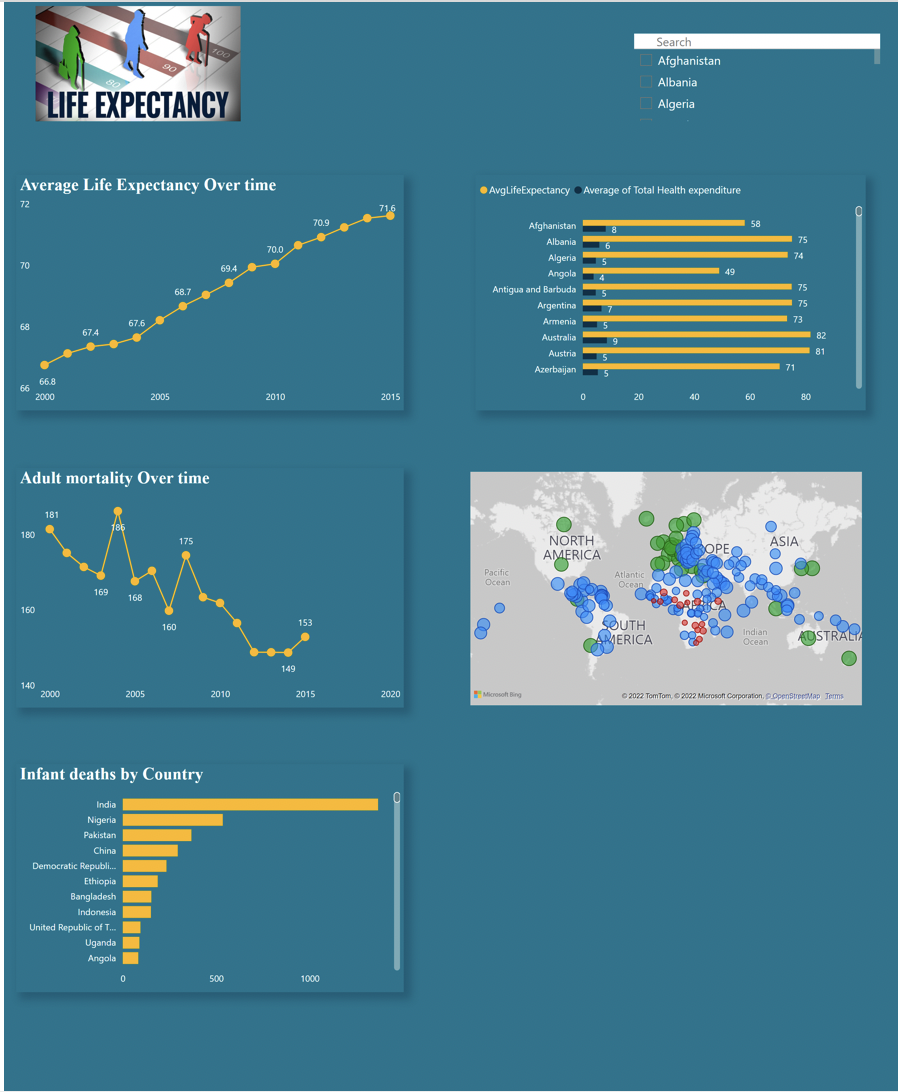

What the dashboard file says about the page in this screenshot:
{"tool":"powerbi","page":{"name":"Page 1","canvas":[1200,1500],"ordinal":0},"visuals":[{"type":"lineChart","title":"Average Life Expectancy Over time","fields":{"Y":["#Measures.AvgLifeExpectancy"],"Category":["Life Expectancy Data.Year"]},"box":[15.8,231.8,520.4,316.5],"z":0},{"type":"slicer","fields":{"Values":["Life Expectancy Data.Country"]},"box":[840.7,37.2,340.7,127.5],"z":2000},{"type":"map","fields":{"Category":["Life Expectancy Data.Country"],"Size":["Avg(Life Expectancy Data.Life expectancy )"]},"box":[620.9,625.6,536.2,324],"z":3000},{"type":"image","box":[0,0,359.3,164.8],"z":4000},{"type":"clusteredBarChart","fields":{"Y":["#Measures.AvgLifeExpectancy","Avg(Life Expectancy Data.Total Health expenditure)"],"Category":["Life Expectancy Data.Country"]},"box":[633,231.8,524.1,316.5],"z":5000},{"type":"lineChart","title":"Adult mortality Over time","fields":{"Category":["Life Expectancy Data.Year"],"Y":["#Measures.Avg Adult mortality"]},"box":[15.8,625.6,520.4,322.1],"z":6000},{"type":"clusteredBarChart","title":"Infant deaths by Country","fields":{"Category":["Life Expectancy Data.Country"],"Y":["Avg(Life Expectancy Data.infant deaths)"]},"box":[15.8,1024,520.4,306.3],"z":6002}]}

Visuals, with their boxes in screenshot pixels (x1, y1, x2, y2), scaled from the page's 1200x1500 canvas onto the 898x1092 screenshot:
"Average Life Expectancy Over time" lineChart: [12,169,401,399]
slicer - Life Expectancy Data.Country: [629,27,884,120]
map - Life Expectancy Data.Country x Avg(Life Expectancy Data.Life expectancy ): [465,455,866,691]
image: [0,0,269,120]
clusteredBarChart - #Measures.AvgLifeExpectancy x Avg(Life Expectancy Data.Total Health expenditure): [474,169,866,399]
"Adult mortality Over time" lineChart: [12,455,401,690]
"Infant deaths by Country" clusteredBarChart: [12,745,401,968]
